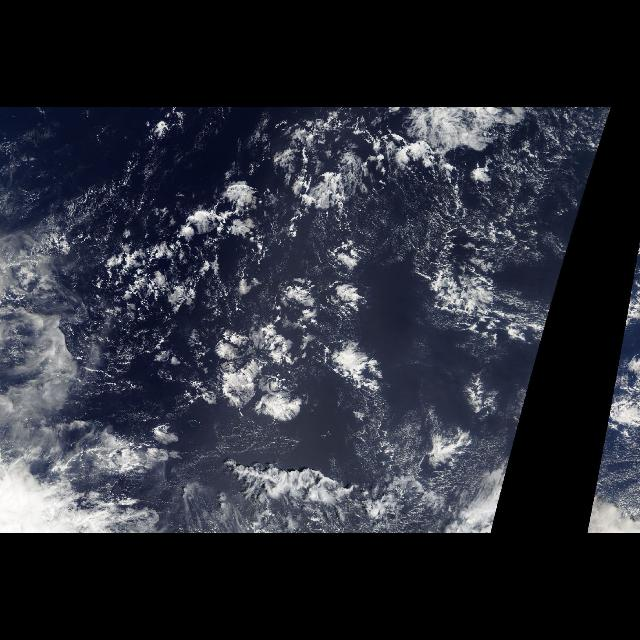Fish: (212, 446, 410, 518)
Flower: (171, 202, 443, 448)
